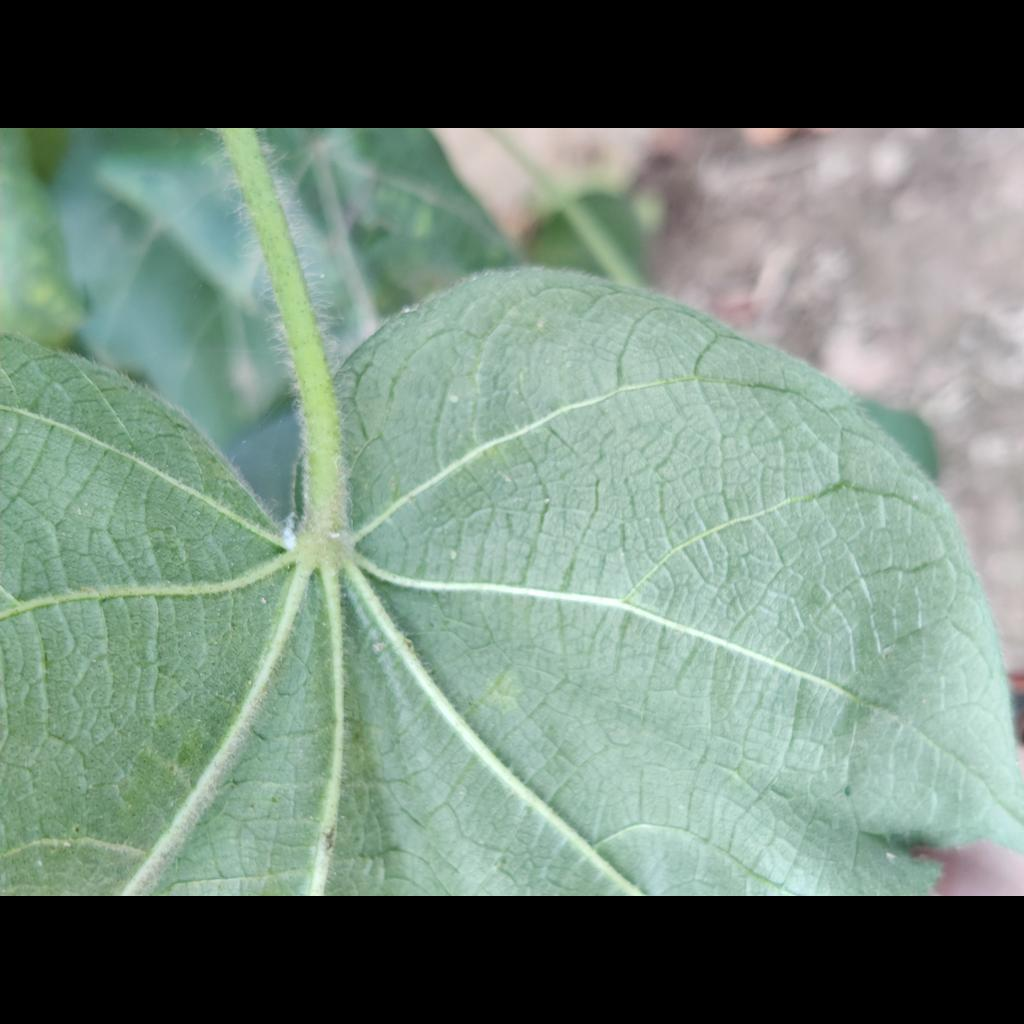nymph: (885, 851, 897, 861), (449, 550, 457, 560), (450, 395, 459, 403), (260, 596, 267, 605), (330, 532, 340, 538), (64, 841, 71, 848), (543, 498, 550, 504), (37, 860, 42, 866)
